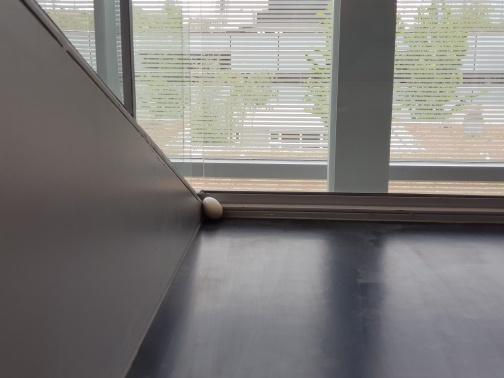egg: (201, 196, 225, 222)
